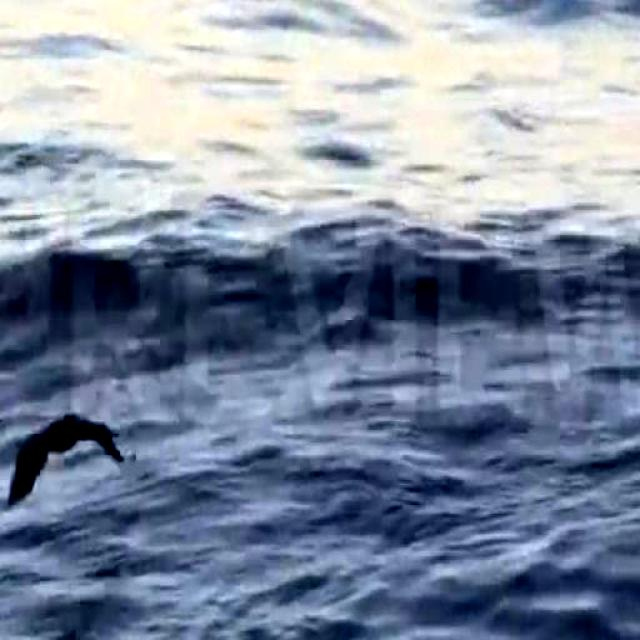airplane: (0, 392, 130, 526)
